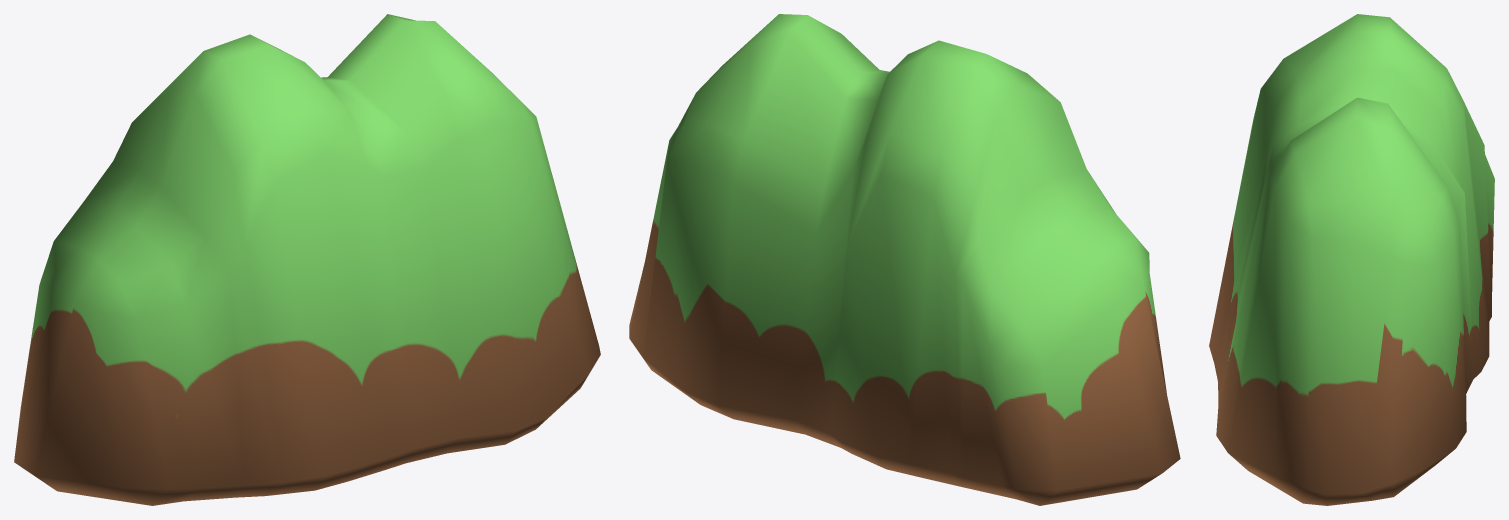
The model's file is Morro1.fbx.
3 renders of one model, left to right at view 1: azimuth 30°, elevation 25°; view 2: azimuth 150°, elevation 25°; view 3: azimuth 270°, elevation 25°, orthographic. The views are drawn at different scales.
Parts seen in each view (by area): view 1: Cube; view 2: Cube; view 3: Cube.
Part boxes in pixels (left/top/right/bottom): Cube: left=14, top=14, right=600, bottom=505; Cube: left=629, top=14, right=1180, bottom=505; Cube: left=1209, top=14, right=1494, bottom=505.
Bounding box in the file's own units: 7747 × 5211 × 3870.
Materials: 1 (1 with a texture image).
